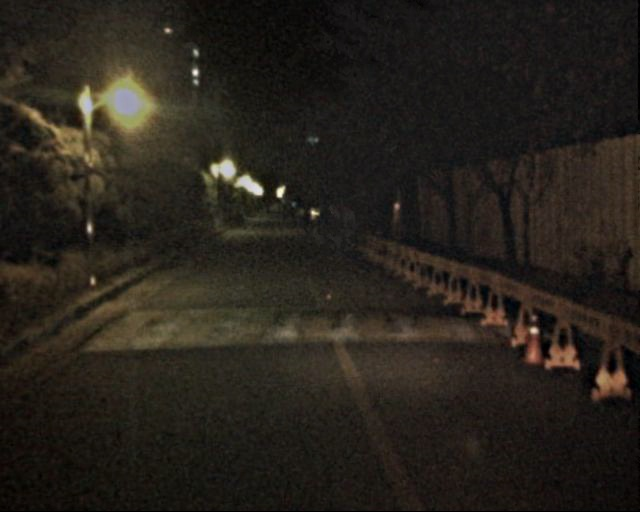person: (325, 210, 346, 261), (337, 205, 355, 249), (313, 206, 331, 249), (299, 208, 314, 245)
